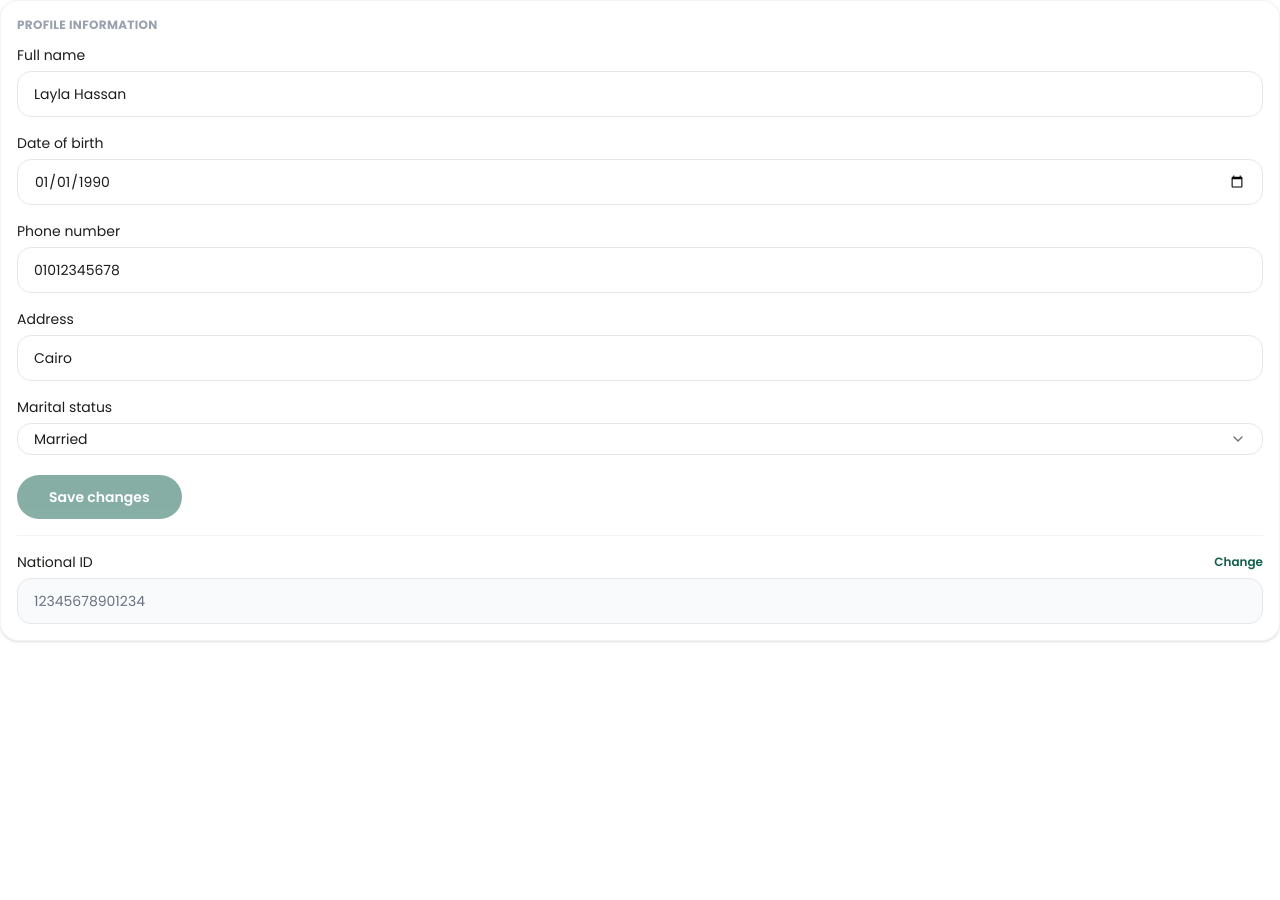
ProfileInfoForm › rejects a too-short full name
This screenshot has width=1280, height=900.
Step 1. Replace the text in the field showing "Layla Hassan" with "L" → (640, 94), box [17,71,1263,117]
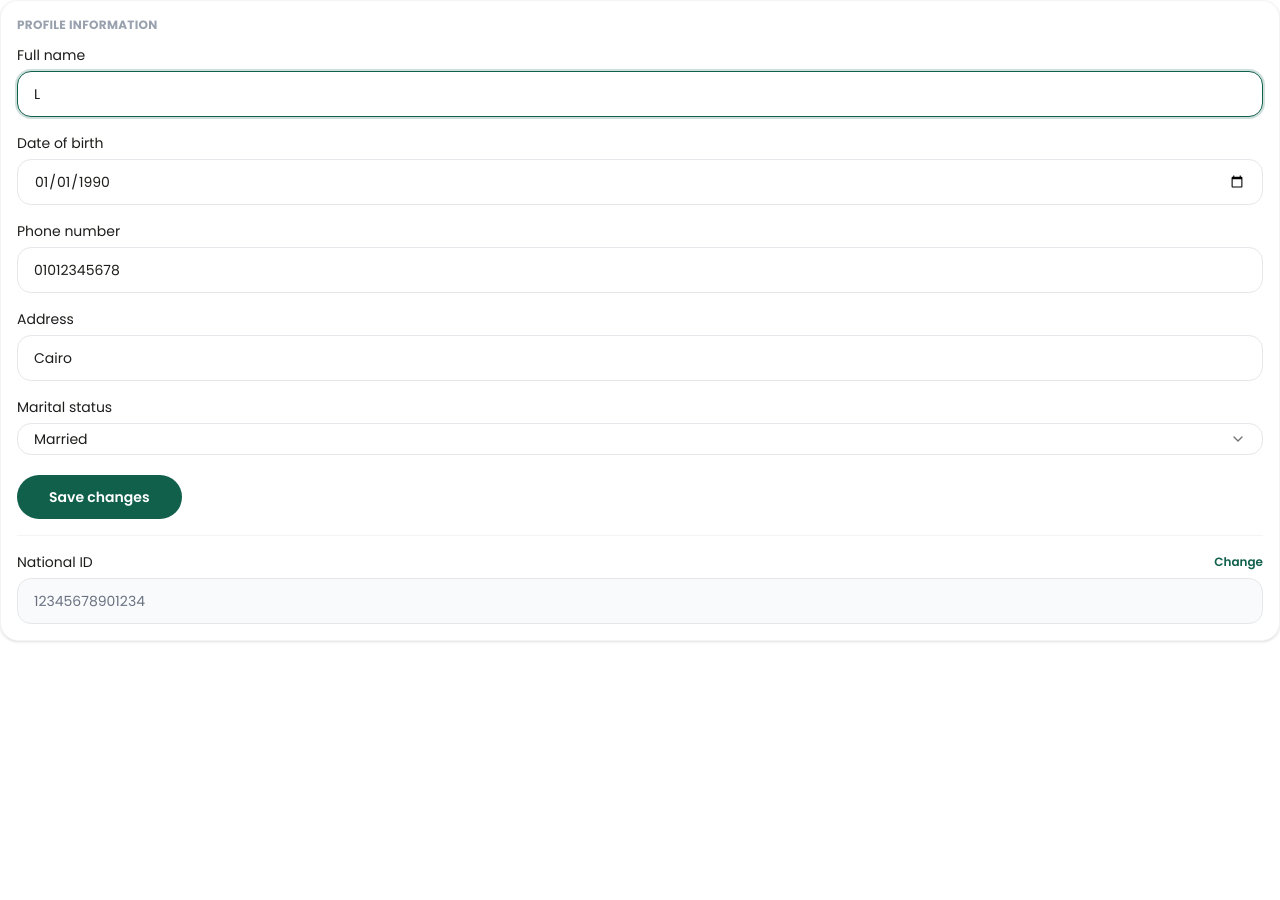
Step 2. Click the button "Save changes" → (99, 497), box [17,475,182,519]
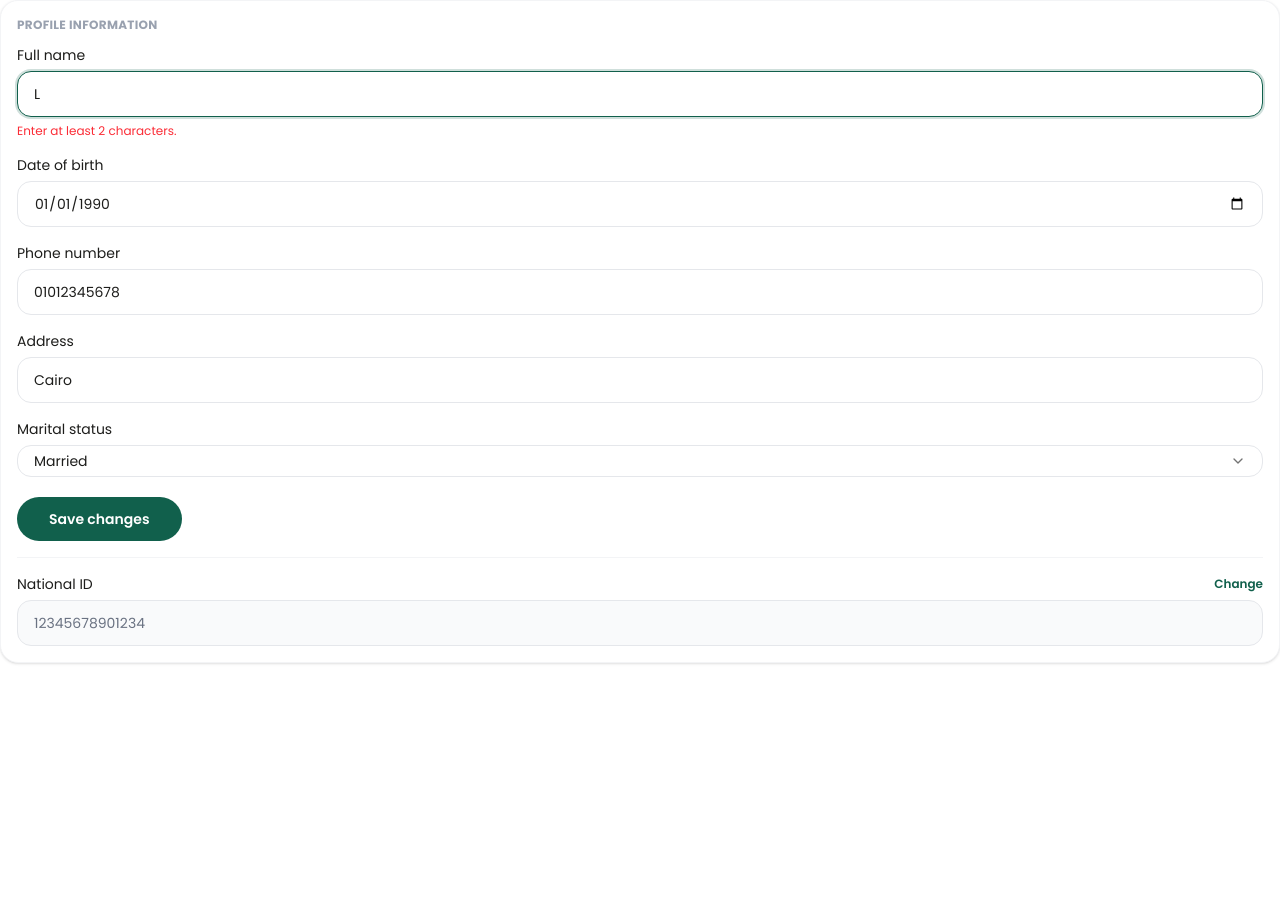
Check: the text "Enter at least 2 characters." is shown, box [17,122,176,139]
